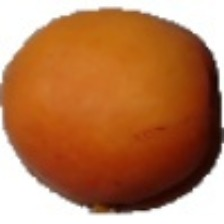apricot: (43, 47, 178, 210)
